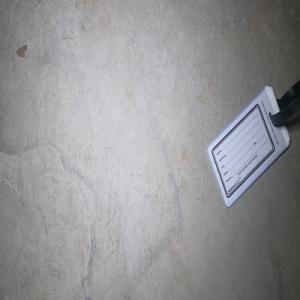LuggageTag: (205, 78, 300, 209)
